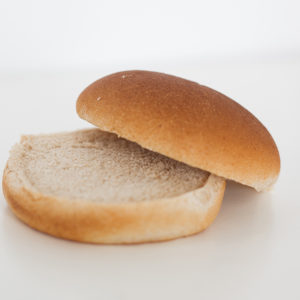hamburger_buns: (8, 67, 286, 266)
